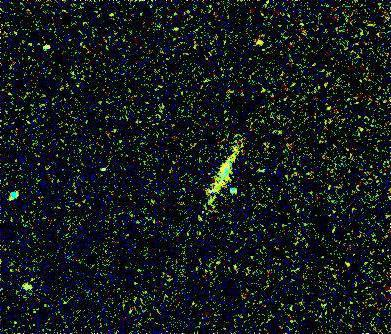star: (245, 30, 275, 60)
